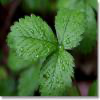Strawberry leaf: (5, 12, 59, 62), (37, 48, 76, 96), (54, 3, 89, 51)
